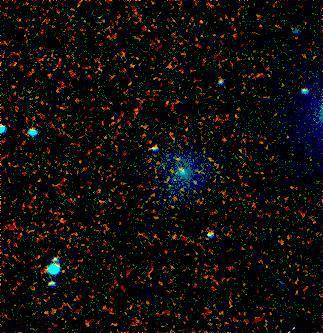star: (265, 269, 295, 299)
